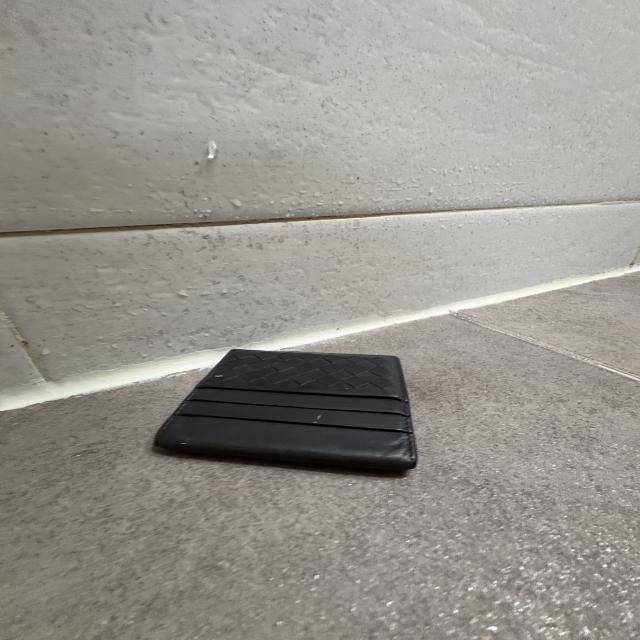wallet: (148, 346, 422, 479)
